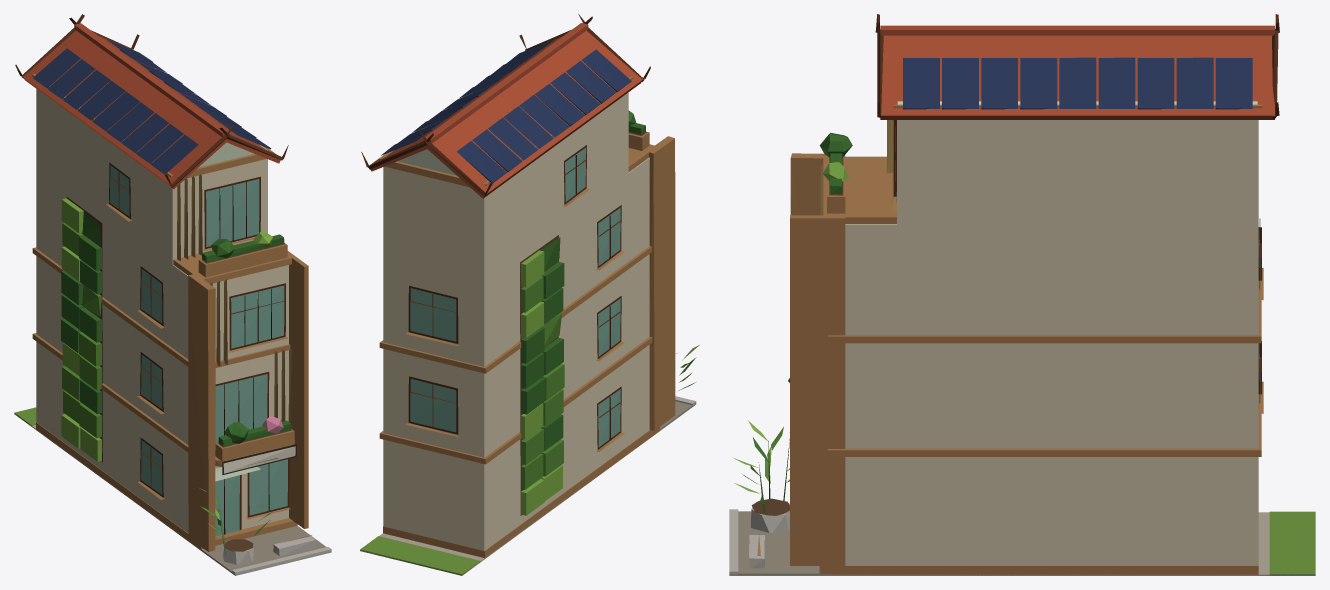
The model's file is bay2_left.glb.
3 renders of one model, left to right at view 1: azimuth 30°, elevation 25°; view 2: azimuth 150°, elevation 25°; view 3: azimuth 270°, elevation 25°, orthographic. The views are drawn at different scales.
Parts seen in each view (by area): view 1: body; view 2: body; view 3: body.
Boxes of the visible parts, left/top/right/bottom form: body: left=14, top=14, right=331, bottom=575; body: left=360, top=14, right=699, bottom=575; body: left=729, top=14, right=1315, bottom=575.
Bounding box in the file's own units: 5.2 × 15.77 × 15.9.
